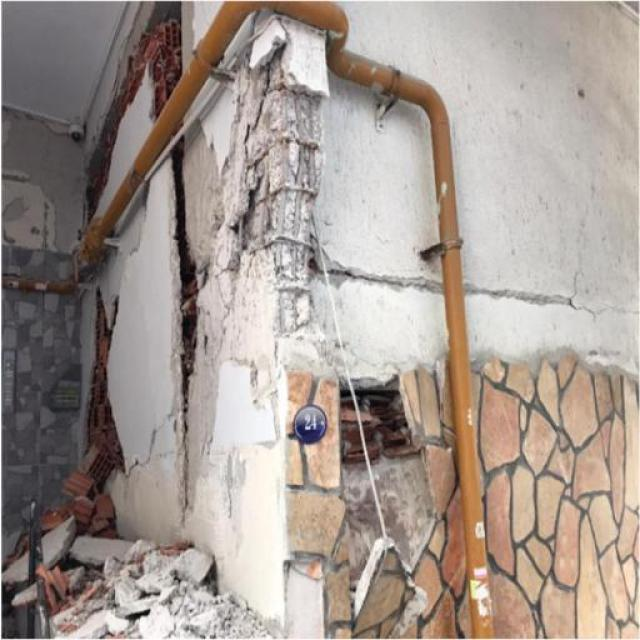D0w0: (224, 48, 321, 335)
